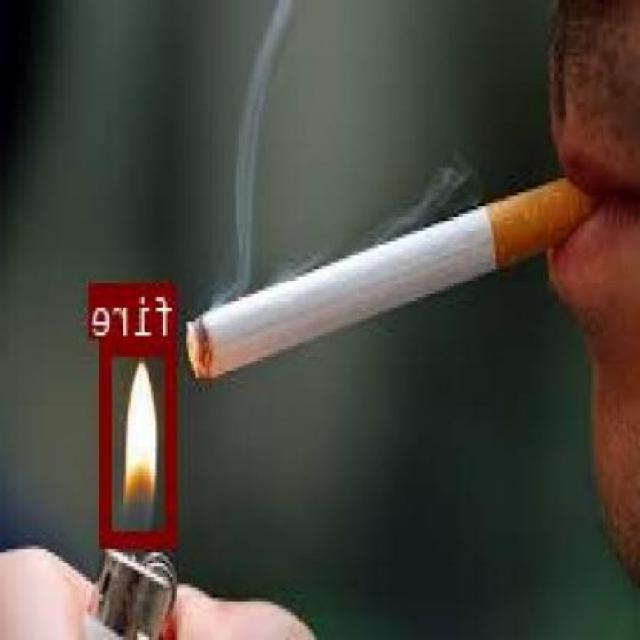fire: (103, 338, 177, 546)
